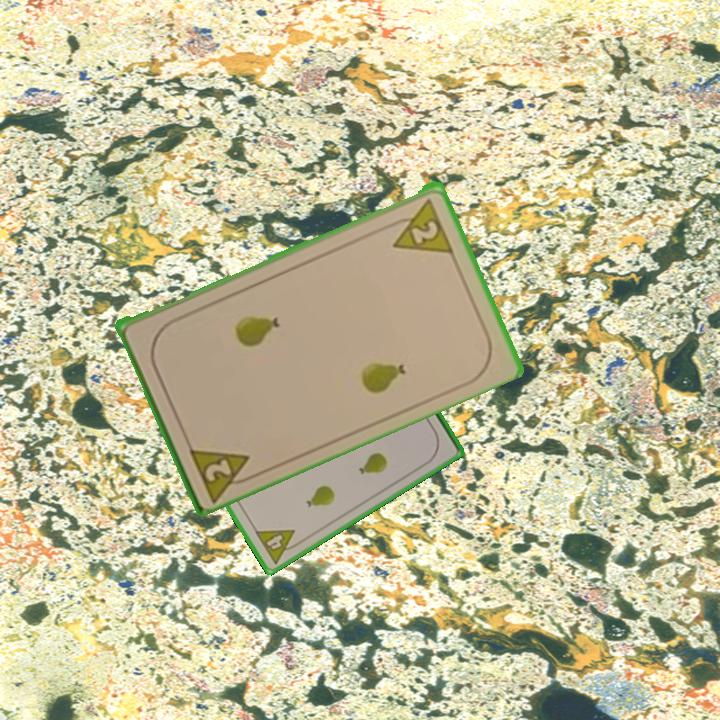2p: (184, 440, 261, 502), (382, 194, 456, 256)
4p: (251, 526, 304, 567)
